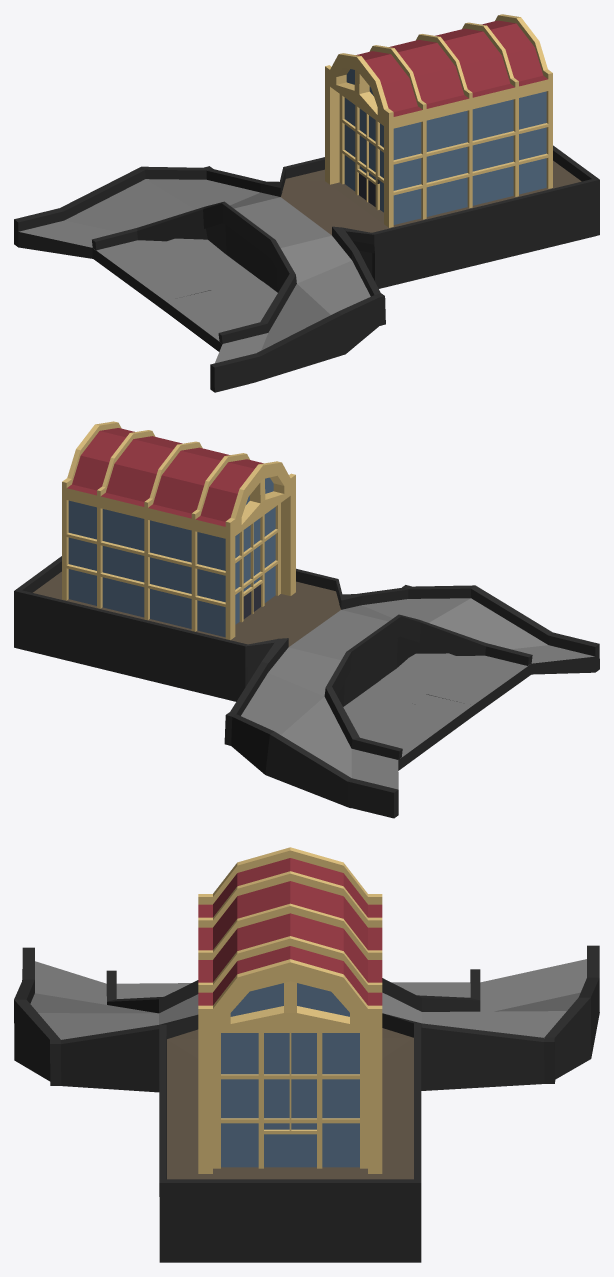
File: complex_Evacuation_center.fbx
3 renders of one model, top to bottom at view 1: azimuth 30°, elevation 25°; view 2: azimuth 150°, elevation 25°; view 3: azimuth 270°, elevation 25°, orthographic. The views are drawn at different scales.
Visible parts, largest first — view 1: Cube; view 2: Cube; view 3: Cube.
Part boxes in pixels (x1=…): Cube: x1=14, y1=14, x2=599, y2=392; Cube: x1=14, y1=421, x2=599, y2=818; Cube: x1=14, y1=847, x2=599, y2=1262.
Size of the model in its own units: 39111 by 18543 by 31895.
